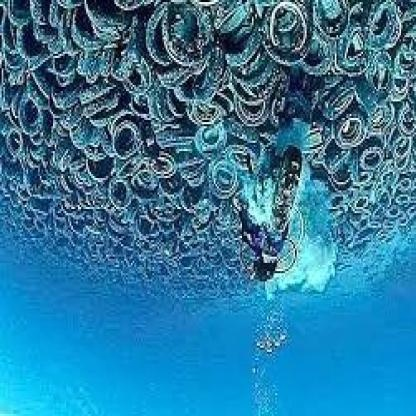tire: (323, 102, 380, 160), (13, 83, 63, 147), (161, 2, 212, 64), (258, 2, 310, 62), (88, 147, 131, 194), (116, 122, 156, 166), (195, 120, 230, 151)
